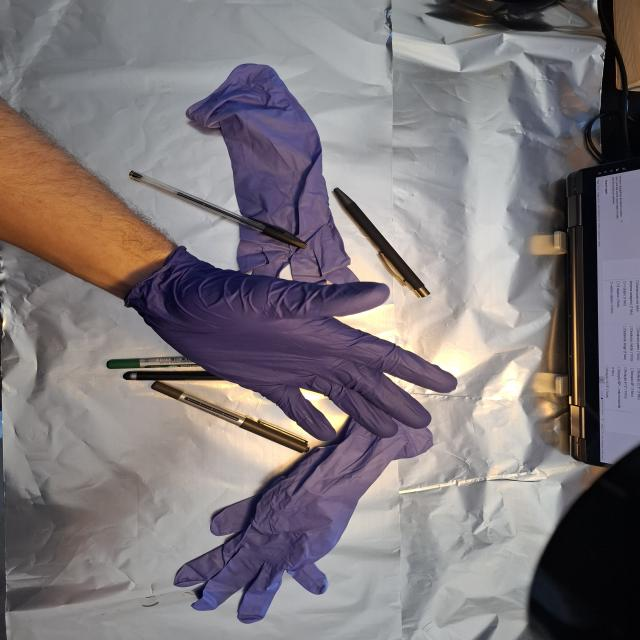glove_on: (129, 262, 460, 444)
